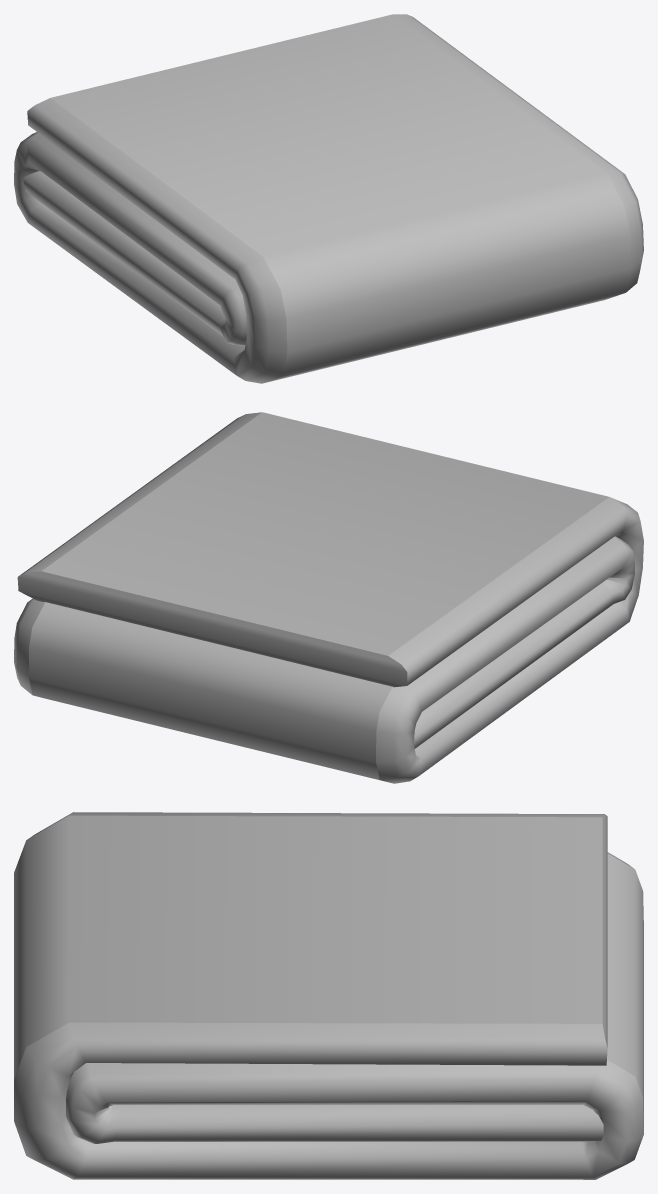
File: Towel_02.fbx
3 views of the same model, one above another, from view 1: azimuth 30°, elevation 25°; view 2: azimuth 150°, elevation 25°; view 3: azimuth 270°, elevation 25° (orthographic). The views are drawn at different scales.
Parts seen in each view (by area): view 1: Towel_02; view 2: Towel_02; view 3: Towel_02.
Part boxes in pixels (box(x1,y1,x2,y2)): Towel_02: box(14, 14, 643, 383); Towel_02: box(14, 412, 643, 783); Towel_02: box(14, 812, 643, 1179).
Bounding box in the file's own units: 0.2483 × 0.0755 × 0.276.
